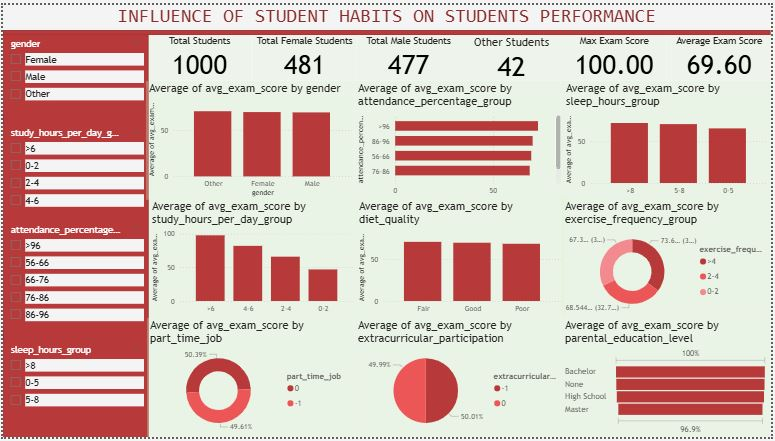

The page's visual inventory and layout, read from the dashboard file:
{"tool":"powerbi","page":{"name":"Page 1","canvas":[1280,720],"ordinal":0},"visuals":[{"type":"shape","title":"INFLUENCE OF STUDENT HABITS ON STUDENTS PERFORMANCE","box":[0,0,1279.2,50.4],"z":0},{"type":"columnChart","fields":{"Category":["students_habits_cleaned.sleep_hours_group"],"Y":["Avg(students_habits_cleaned.avg_exam_score)"]},"box":[934,126,346,198],"z":1000},{"type":"shape","box":[0,50,242.5,670],"z":2000},{"type":"card","title":"Total Students","fields":{"Values":["Sum(students_habits_cleaned.count_of_students)"]},"box":[242,50,172,76],"z":3000},{"type":"card","title":"Total Female Students","fields":{"Values":["Sum(students_habits_cleaned.count_of_students)"]},"box":[416,50,172,76],"z":4000},{"type":"card","title":"Total Male Students","fields":{"Values":["Sum(students_habits_cleaned.count_of_students)"]},"box":[590,50,172,76],"z":5000},{"type":"card","title":"Other Students","fields":{"Values":["Sum(students_habits_cleaned.count_of_students)"]},"box":[762,50,172,76],"z":6000},{"type":"columnChart","fields":{"Category":["students_habits_cleaned.diet_quality"],"Y":["Avg(students_habits_cleaned.avg_exam_score)"]},"box":[588,324,348,198],"z":7000},{"type":"columnChart","fields":{"Y":["Avg(students_habits_cleaned.avg_exam_score)"],"Category":["students_habits_cleaned.study_hours_per_day_group"]},"box":[244,324,346,198],"z":8000},{"type":"pieChart","fields":{"Y":["Avg(students_habits_cleaned.avg_exam_score)"],"Category":["students_habits_cleaned.extracurricular_participation"]},"box":[586,522,346,198],"z":9000},{"type":"funnel","fields":{"Category":["students_habits_cleaned.parental_education_level"],"Y":["Avg(students_habits_cleaned.avg_exam_score)"]},"box":[932,522,348,198],"z":10000},{"type":"donutChart","fields":{"Category":["students_habits_cleaned.exercise_frequency_group"],"Y":["Avg(students_habits_cleaned.avg_exam_score)"]},"box":[932,324,348,198],"z":11000},{"type":"clusteredBarChart","fields":{"Category":["students_habits_cleaned.attendance_percentage_group"],"Y":["Avg(students_habits_cleaned.avg_exam_score)"]},"box":[586,126,348,198],"z":12000},{"type":"card","title":"Max Exam Score","fields":{"Values":["Max(students_habits_cleaned.avg_exam_score)"]},"box":[932,50,174,76],"z":13000},{"type":"card","title":"Average Exam Score","fields":{"Values":["Avg(students_habits_cleaned.avg_exam_score)"]},"box":[1106,50,174,76],"z":14000},{"type":"donutChart","fields":{"Y":["Avg(students_habits_cleaned.avg_exam_score)"],"Category":["students_habits_cleaned.part_time_job"]},"box":[240,522,346,198],"z":15000},{"type":"slicer","fields":{"Values":["students_habits_cleaned.gender"]},"box":[0,50,240,132],"z":16000},{"type":"slicer","fields":{"Values":["students_habits_cleaned.study_hours_per_day_group"]},"box":[0,198.4,239.6,160.9],"z":17000},{"type":"slicer","fields":{"Values":["students_habits_cleaned.attendance_percentage_group"]},"box":[0,359.3,239.6,178.8],"z":18000},{"type":"slicer","fields":{"Values":["students_habits_cleaned.sleep_hours_group"]},"box":[0,559.6,239.6,160.9],"z":19000},{"type":"columnChart","fields":{"Y":["Avg(students_habits_cleaned.avg_exam_score)"],"Category":["students_habits_cleaned.gender"]},"box":[238,126,348,198],"z":20000}]}

Visuals, with their boxes in screenshot pixels (x1, y1, x2, y2), scaled from the page's 1280x720 canvas onto the 775x441 screenshot:
"INFLUENCE OF STUDENT HABITS ON STUDENTS PERFORMANCE" shape: 0,0,774,31
columnChart - students_habits_cleaned.sleep_hours_group x Avg(students_habits_cleaned.avg_exam_score): 566,77,774,198
shape: 0,31,147,440
"Total Students" card: 147,31,251,77
"Total Female Students" card: 252,31,356,77
"Total Male Students" card: 357,31,461,77
"Other Students" card: 461,31,566,77
columnChart - students_habits_cleaned.diet_quality x Avg(students_habits_cleaned.avg_exam_score): 356,198,567,320
columnChart - Avg(students_habits_cleaned.avg_exam_score) x students_habits_cleaned.study_hours_per_day_group: 148,198,357,320
pieChart - Avg(students_habits_cleaned.avg_exam_score) x students_habits_cleaned.extracurricular_participation: 355,320,564,440
funnel - students_habits_cleaned.parental_education_level x Avg(students_habits_cleaned.avg_exam_score): 564,320,774,440
donutChart - students_habits_cleaned.exercise_frequency_group x Avg(students_habits_cleaned.avg_exam_score): 564,198,774,320
clusteredBarChart - students_habits_cleaned.attendance_percentage_group x Avg(students_habits_cleaned.avg_exam_score): 355,77,566,198
"Max Exam Score" card: 564,31,670,77
"Average Exam Score" card: 670,31,774,77
donutChart - Avg(students_habits_cleaned.avg_exam_score) x students_habits_cleaned.part_time_job: 145,320,355,440
slicer - students_habits_cleaned.gender: 0,31,145,111
slicer - students_habits_cleaned.study_hours_per_day_group: 0,122,145,220
slicer - students_habits_cleaned.attendance_percentage_group: 0,220,145,330
slicer - students_habits_cleaned.sleep_hours_group: 0,343,145,440
columnChart - Avg(students_habits_cleaned.avg_exam_score) x students_habits_cleaned.gender: 144,77,355,198
